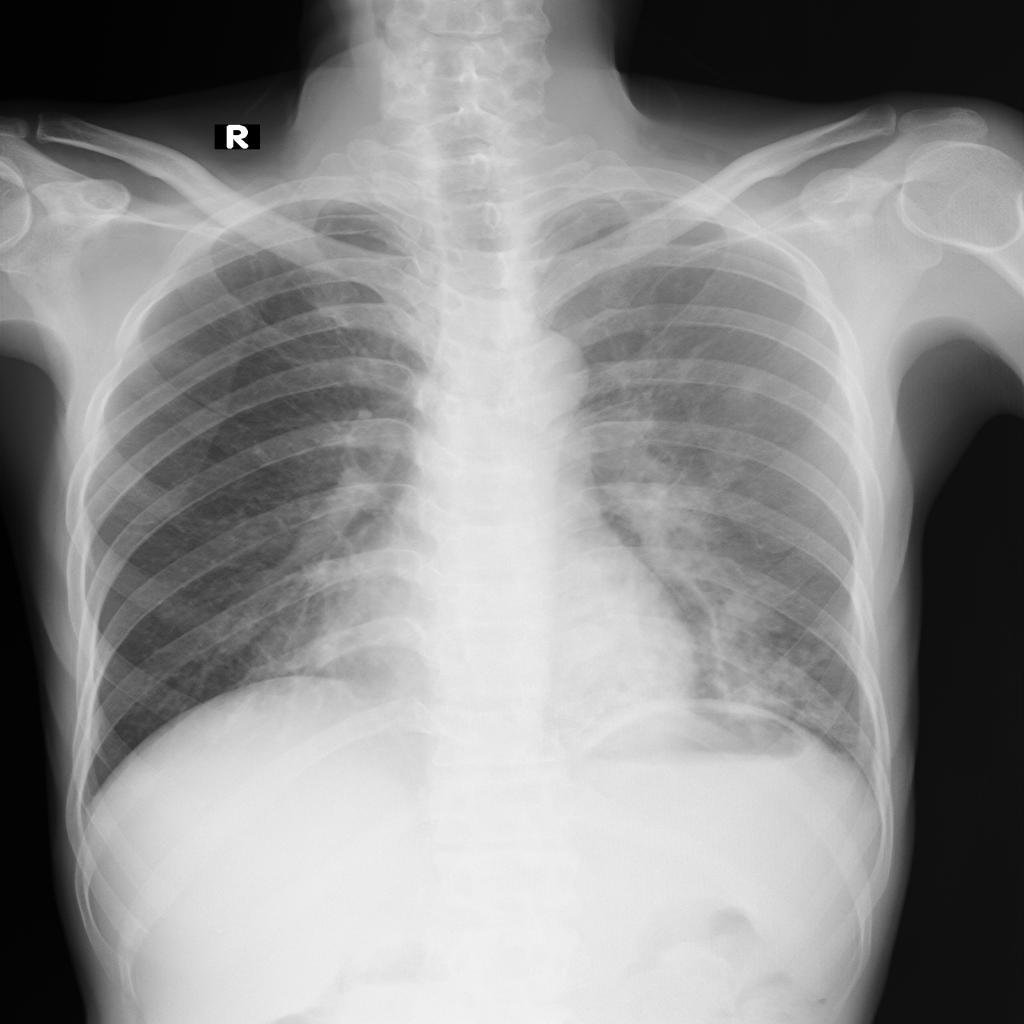Nodule: (692, 569, 853, 747)
